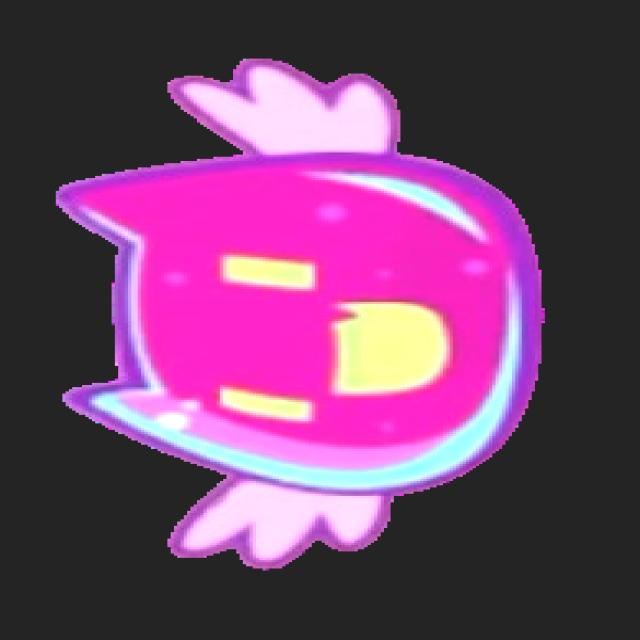mao: (49, 58, 548, 572)
